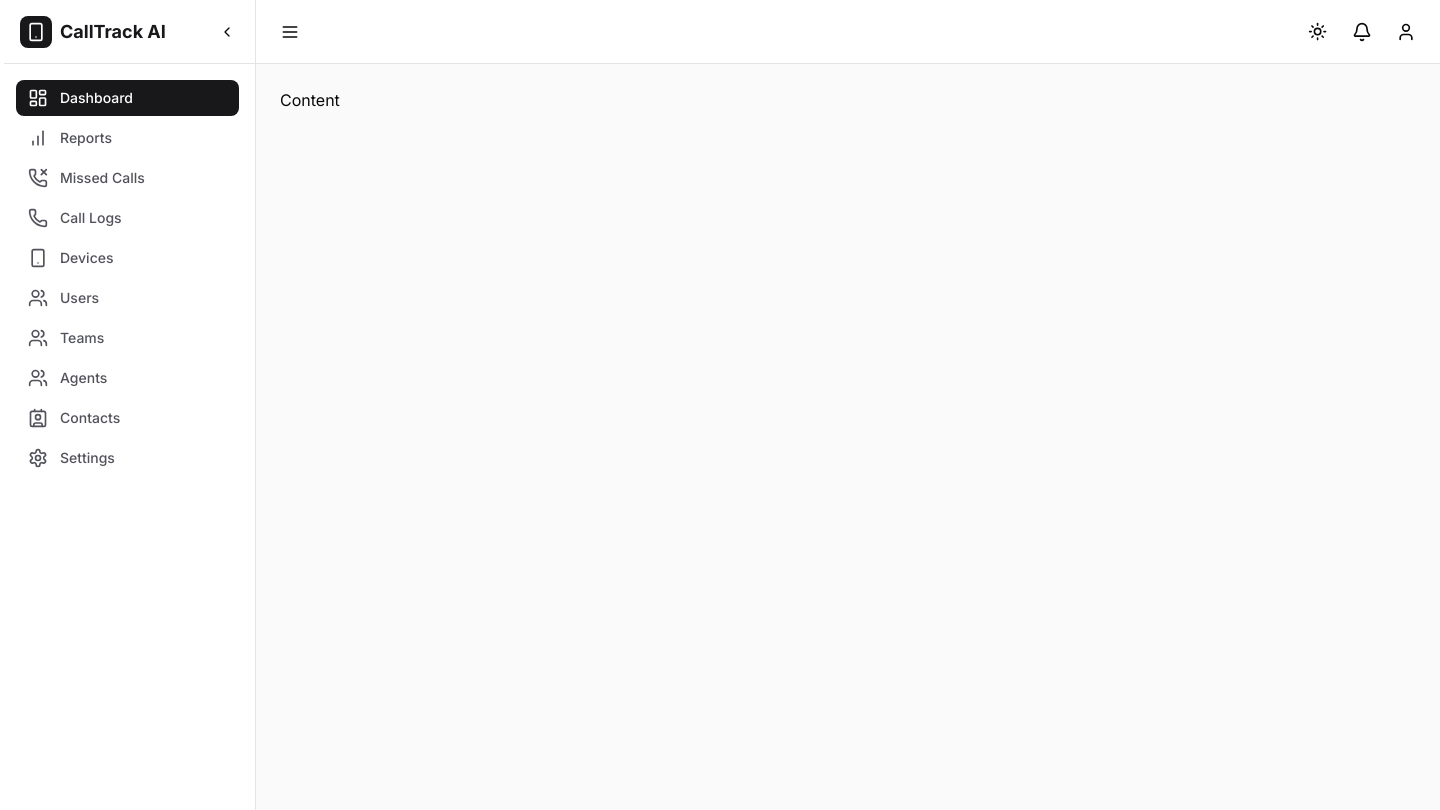
AppShell › Desktop view › should pass user to header
Click the button with test id "user-menu-button" at (1406, 32), box x1=1388 y1=14 x2=1424 y2=50
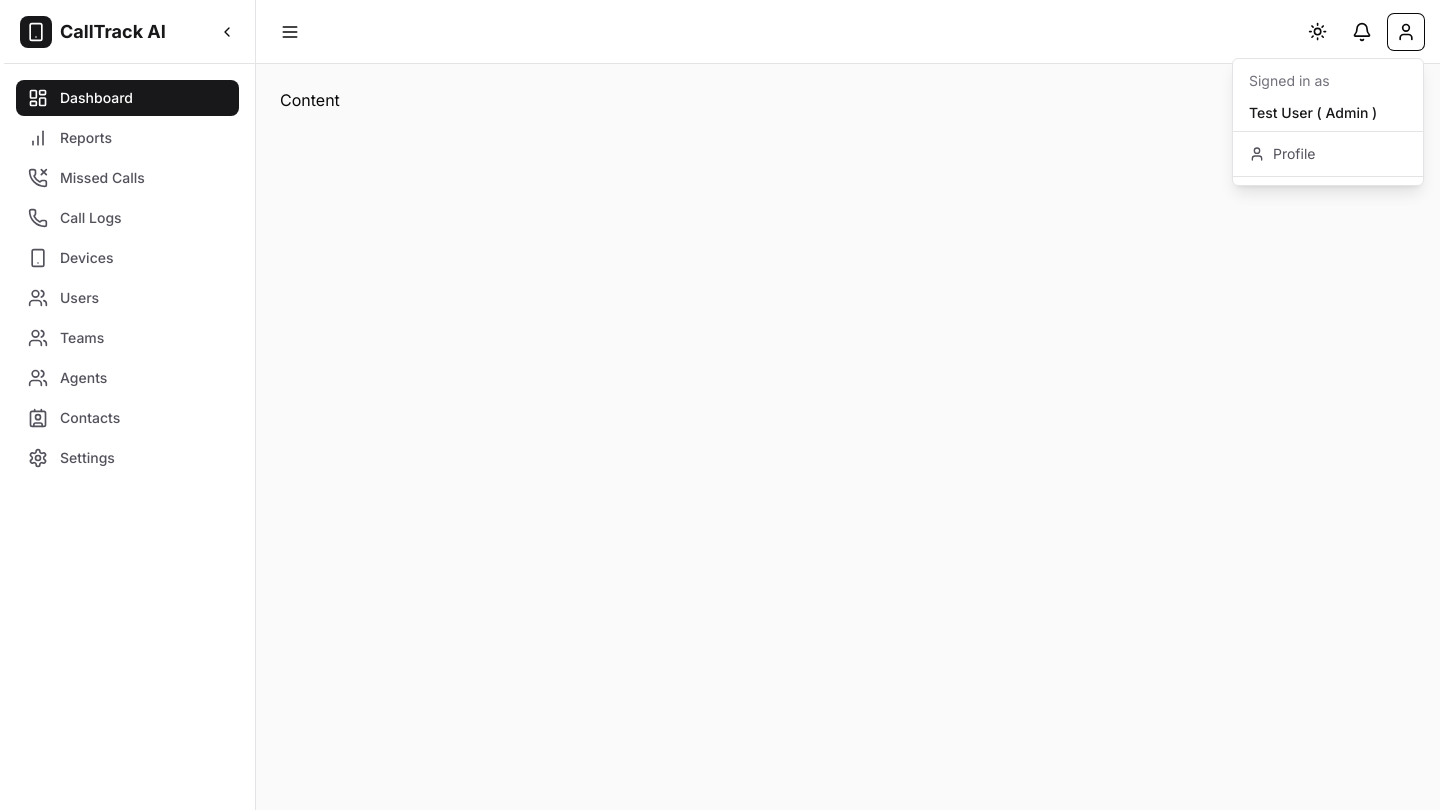
Expected: the text "Test User ( admin )" is shown, x1=1249 y1=104 x2=1377 y2=120
